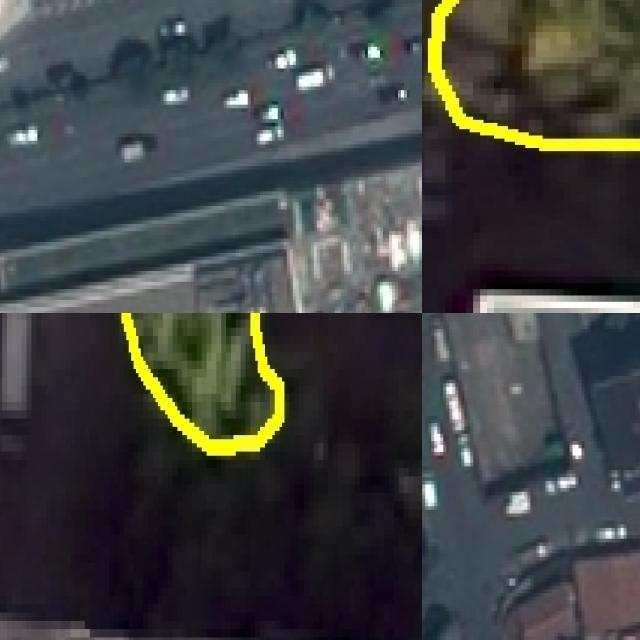trees: (432, 1, 640, 146), (123, 314, 281, 448)
